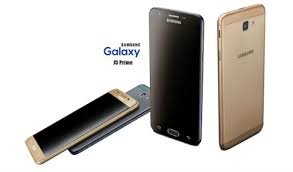samsung: (213, 3, 270, 154), (147, 2, 204, 148)
